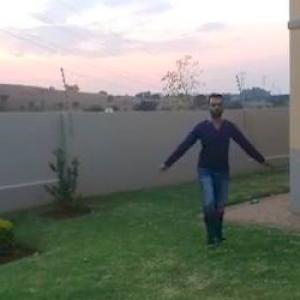land: (148, 90, 264, 239)
